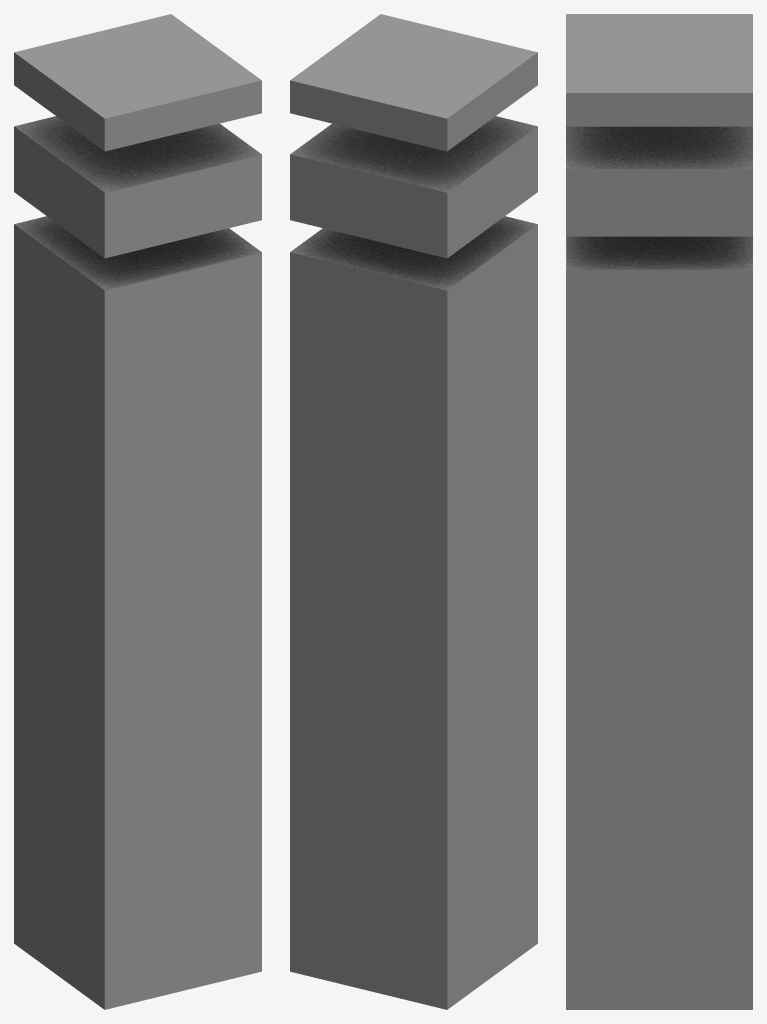
File: tower.fbx
The picture shows the model from 3 angles, left to right: view 1: azimuth 30°, elevation 25°; view 2: azimuth 150°, elevation 25°; view 3: azimuth 270°, elevation 25°; orthographic projection. The views are drawn at different scales.
Visible parts, largest first — view 1: Cube; view 2: Cube; view 3: Cube.
Part boxes in pixels (x1,y1,x2,y2): Cube: (14, 14, 261, 1009); Cube: (290, 14, 537, 1009); Cube: (566, 14, 752, 1009).
Bounding box in the file's own units: 200 × 1084 × 200.
